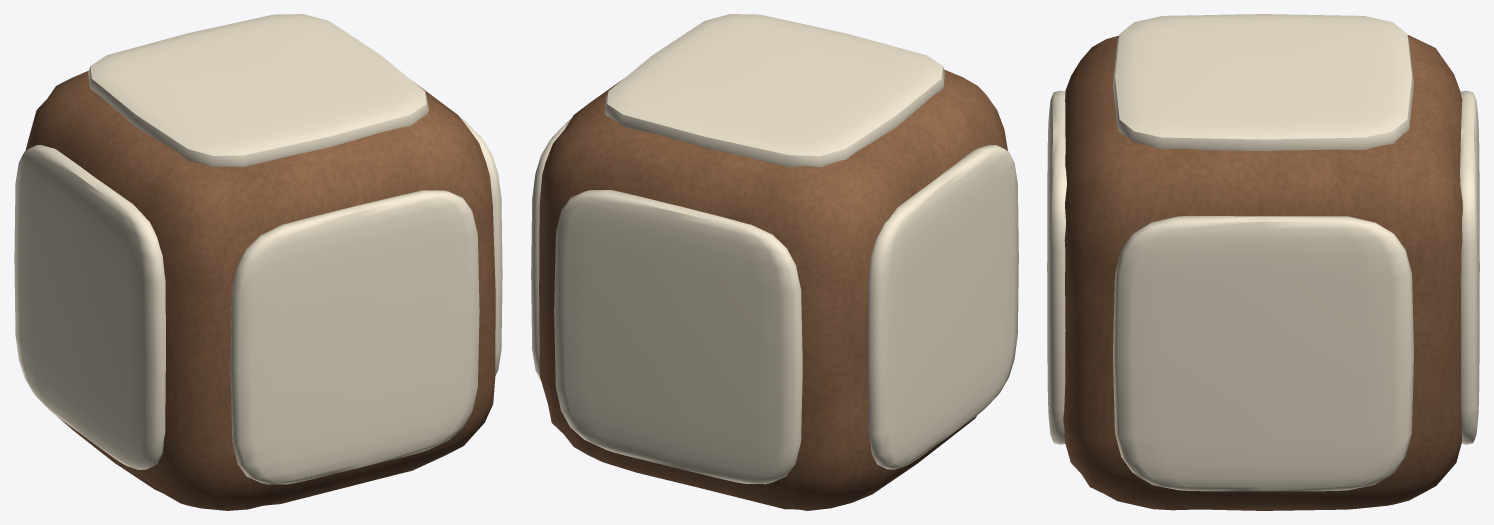
Rendered from d1_block.glb.
3 renders of one model, left to right at view 1: azimuth 30°, elevation 25°; view 2: azimuth 150°, elevation 25°; view 3: azimuth 270°, elevation 25°, orthographic. The views are drawn at different scales.
Parts seen in each view (by area): view 1: Front, Cube, Left, Top, Right; view 2: Back, Cube, Left, Top, Right; view 3: Right, Cube, Top, Back, Front.
Boxes of the visible parts, x1,y1,x2,y2 form: Front: (230,190,479,484); Cube: (25,71,495,510); Left: (14,145,165,469); Top: (88,14,428,167); Right: (460,117,502,375); Back: (554,190,802,484); Cube: (539,70,1007,510); Left: (868,144,1018,469); Top: (604,14,945,167); Right: (531,119,570,380); Right: (1113,216,1413,491); Cube: (1063,35,1462,510); Top: (1113,14,1413,151); Back: (1460,90,1479,444); Front: (1047,90,1066,444).
Bounding box in the file's own units: 0.826 × 0.8138 × 0.826.
Materials: 2 (1 with a texture image).
